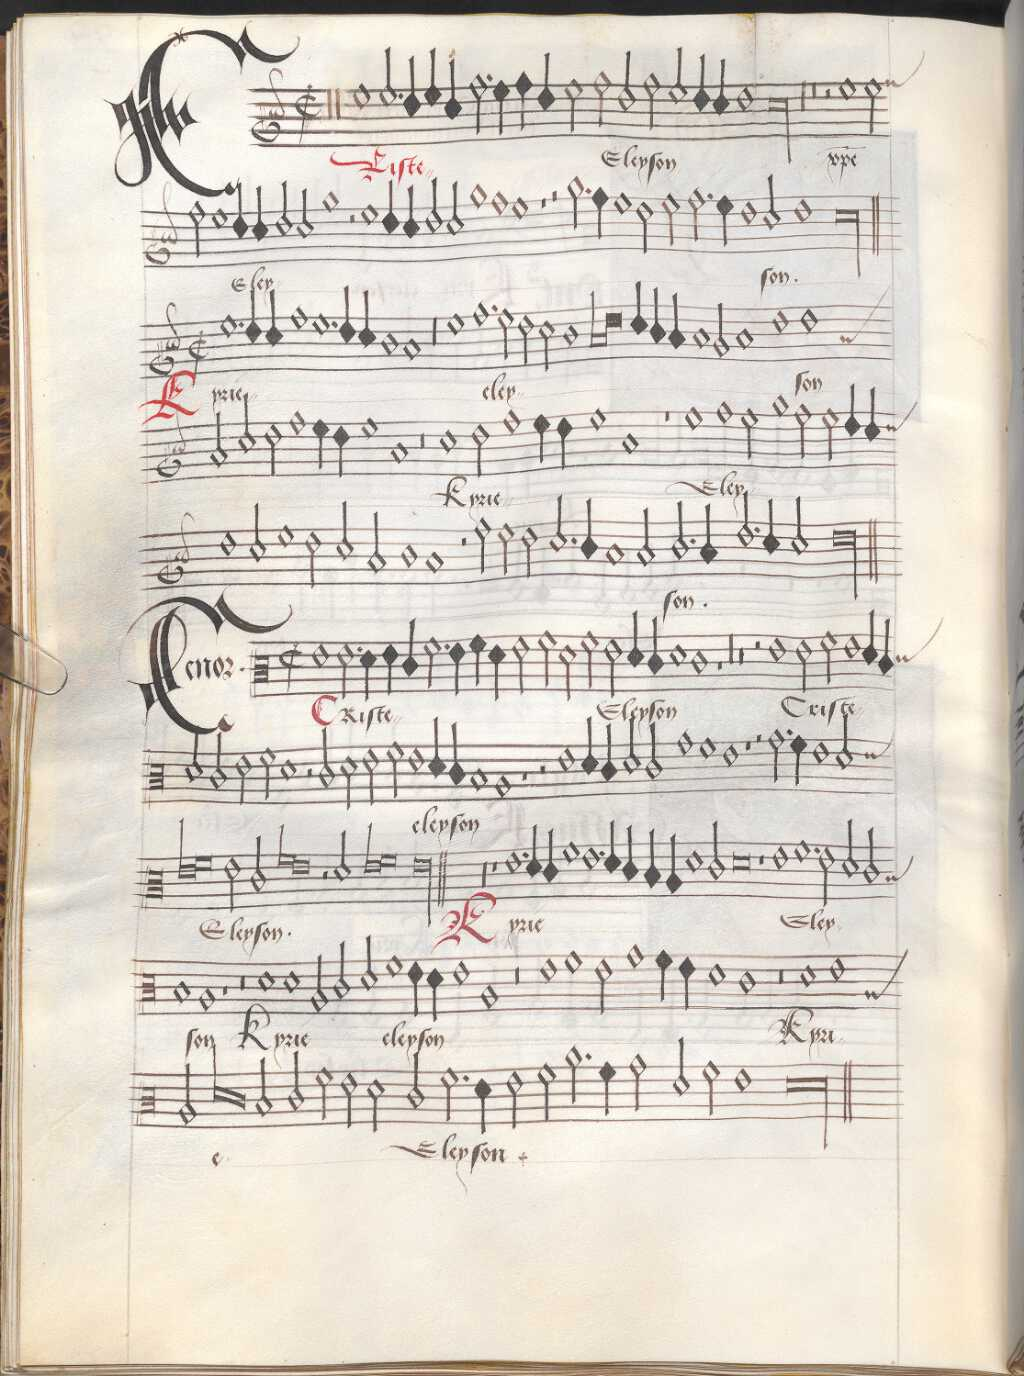breve rest: (414, 412, 429, 477)
custos_5: (881, 395, 912, 451)
g clef_9: (150, 412, 196, 487)
minim_3: (792, 396, 813, 466)
minim_4: (817, 399, 839, 468), (739, 399, 760, 465)
minim_5: (467, 412, 490, 483), (261, 412, 283, 481)
minim_6: (236, 392, 258, 459)
minim_8: (207, 403, 229, 474)
semibreve rest: (658, 394, 675, 460)
semibreve_2: (768, 386, 791, 426)
semibreve_3: (500, 393, 524, 442), (285, 401, 309, 445), (711, 392, 736, 432)
semibreve_4: (680, 396, 707, 440), (356, 407, 382, 448), (585, 399, 610, 440)
semibreve_6: (435, 419, 461, 462)
semibreve_8: (387, 431, 412, 474), (618, 424, 644, 463)
semiminim_4: (532, 405, 552, 471), (312, 411, 330, 477)
semiminim_5: (554, 407, 575, 478), (332, 415, 351, 486), (843, 380, 862, 446)
semiminim_6: (863, 385, 883, 450)
